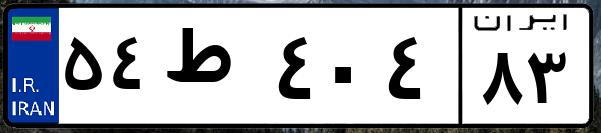0: (330, 28, 385, 110)
3: (525, 38, 570, 115)
4: (270, 28, 330, 110), (385, 28, 445, 110), (110, 28, 158, 98)
5: (57, 26, 110, 100)
8: (475, 38, 525, 113)
ط: (158, 20, 270, 120)
